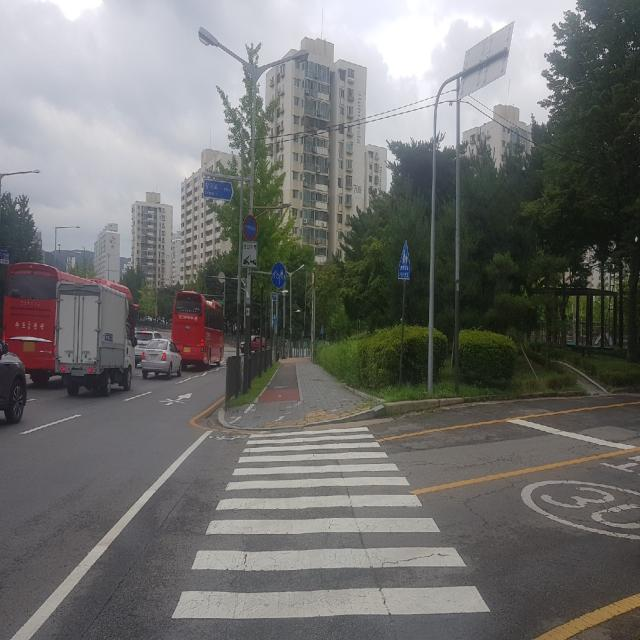횡단보도: (170, 425, 490, 623)
